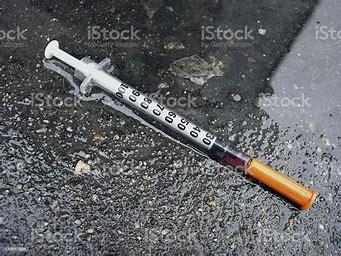Syringe: (37, 33, 340, 211)
